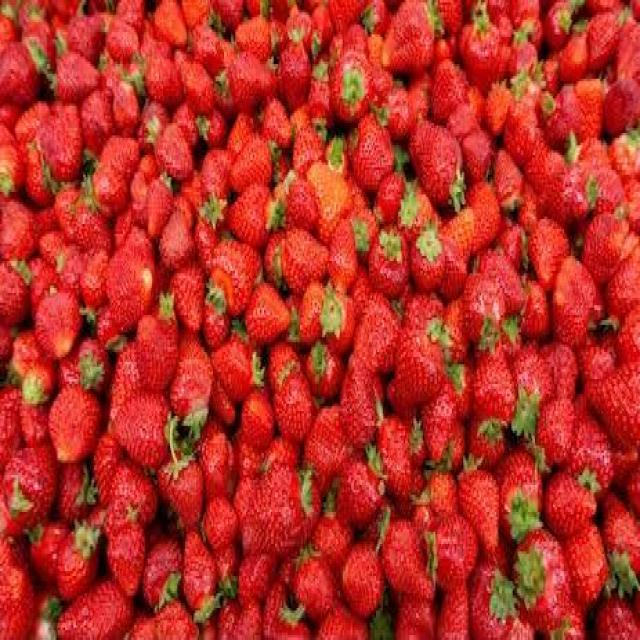Berries strawberries/blueberries: (113, 389, 170, 464), (381, 2, 438, 72), (394, 330, 442, 412), (381, 517, 424, 593), (106, 521, 148, 596), (424, 123, 464, 201), (229, 48, 276, 110), (57, 533, 96, 597), (368, 235, 408, 296), (409, 231, 447, 294), (53, 49, 98, 102)
